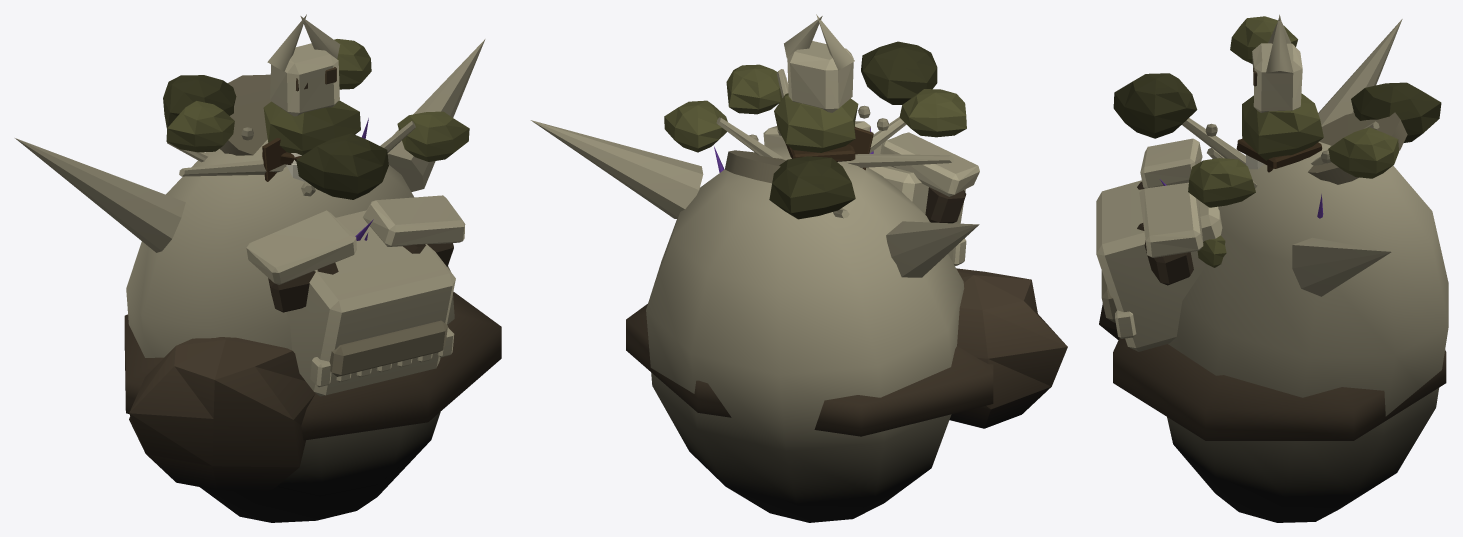
The model's file is props_kemikbahce.glb.
3 renders of one model, left to right at view 1: azimuth 30°, elevation 25°; view 2: azimuth 150°, elevation 25°; view 3: azimuth 270°, elevation 25°, orthographic. The views are drawn at different scales.
Visible parts, largest first — view 1: kafatasi, agac, totem; view 2: kafatasi, agac, totem; view 3: kafatasi, agac, totem, fidan.
Part boxes in pixels (x1=…): kafatasi: x1=15, y1=39, x2=501, y2=522; agac: x1=163, y1=39, x2=469, y2=199; totem: x1=262, y1=14, x2=340, y2=181; kafatasi: x1=530, y1=120, x2=1067, y2=522; agac: x1=664, y1=41, x2=966, y2=219; totem: x1=784, y1=14, x2=873, y2=170; kafatasi: x1=1096, y1=19, x2=1448, y2=522; agac: x1=1113, y1=16, x2=1441, y2=207; totem: x1=1236, y1=14, x2=1322, y2=172; fidan: x1=1197, y1=235, x2=1226, y2=267.
Size of the model in its own units: 229 by 237 by 153.
